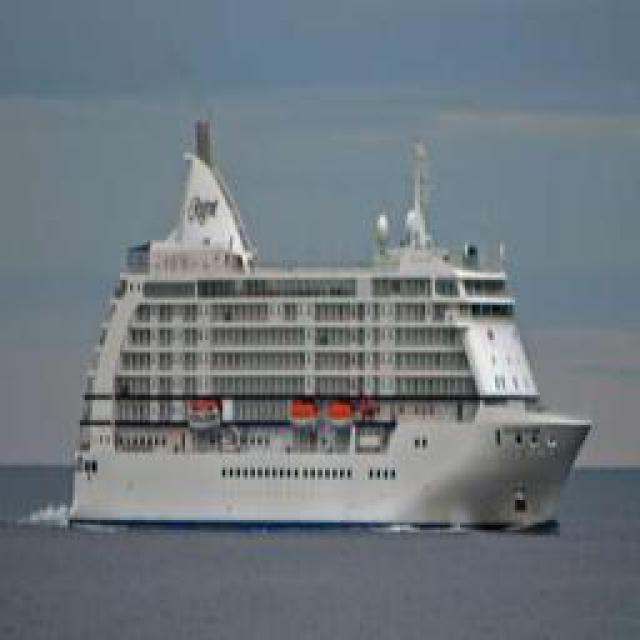Ship: (65, 116, 590, 531)
